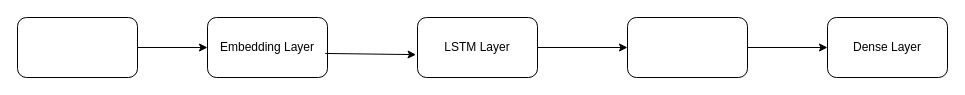
Image size: 965x95. Some labels were removed from this diagram. Here are the shapes that lost their labels. From the top down, the box of each, then its label:
(16, 16, 138, 78): Input Layer
(626, 16, 748, 78): Flatten Layer
